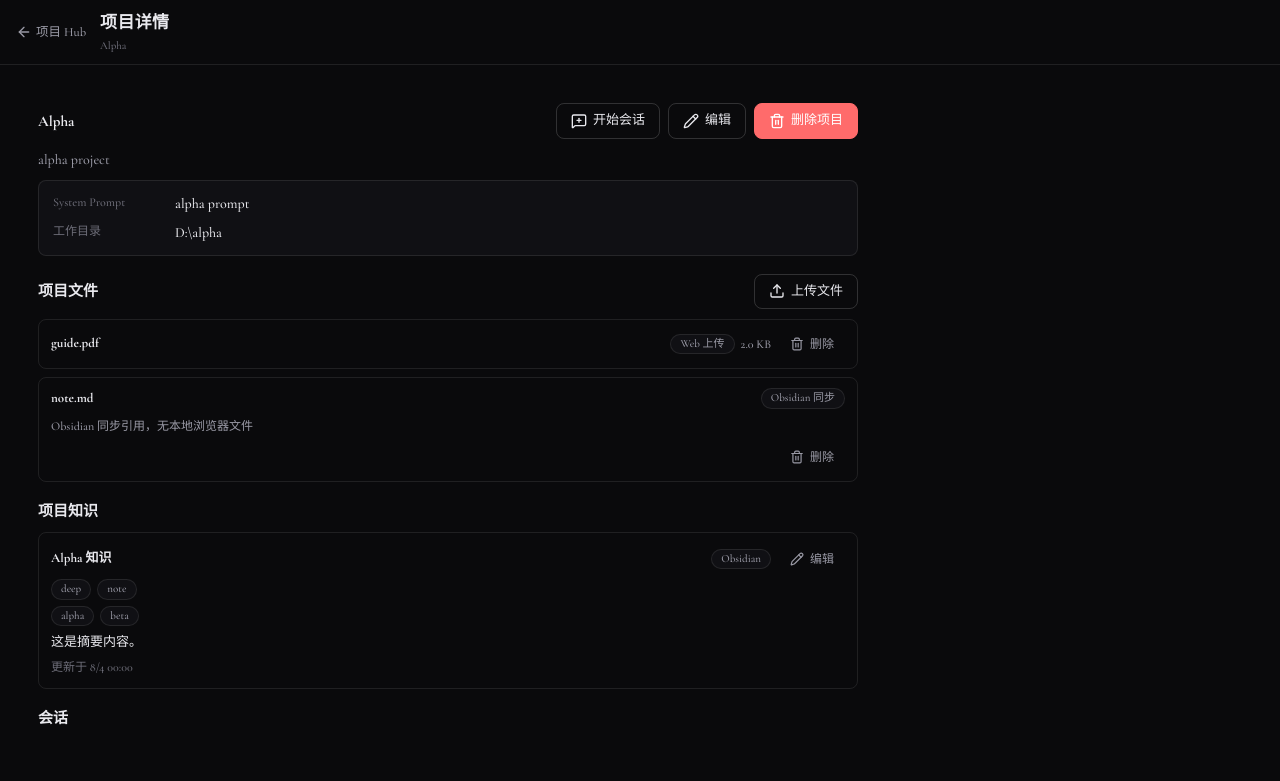
Scenario: P2B file deletion (numeric and kf_ paths, Plan §6.3/§8.5) › numeric delete confirms name+source, hits files/<id>/ and refreshes both sections
This screenshot has width=1280, height=781.
Check: the text "guide.pdf" is shown, box [51, 335, 99, 351]
Click the button "删除" in the row of "guide.pdf": (812, 344) [779, 330, 845, 358]
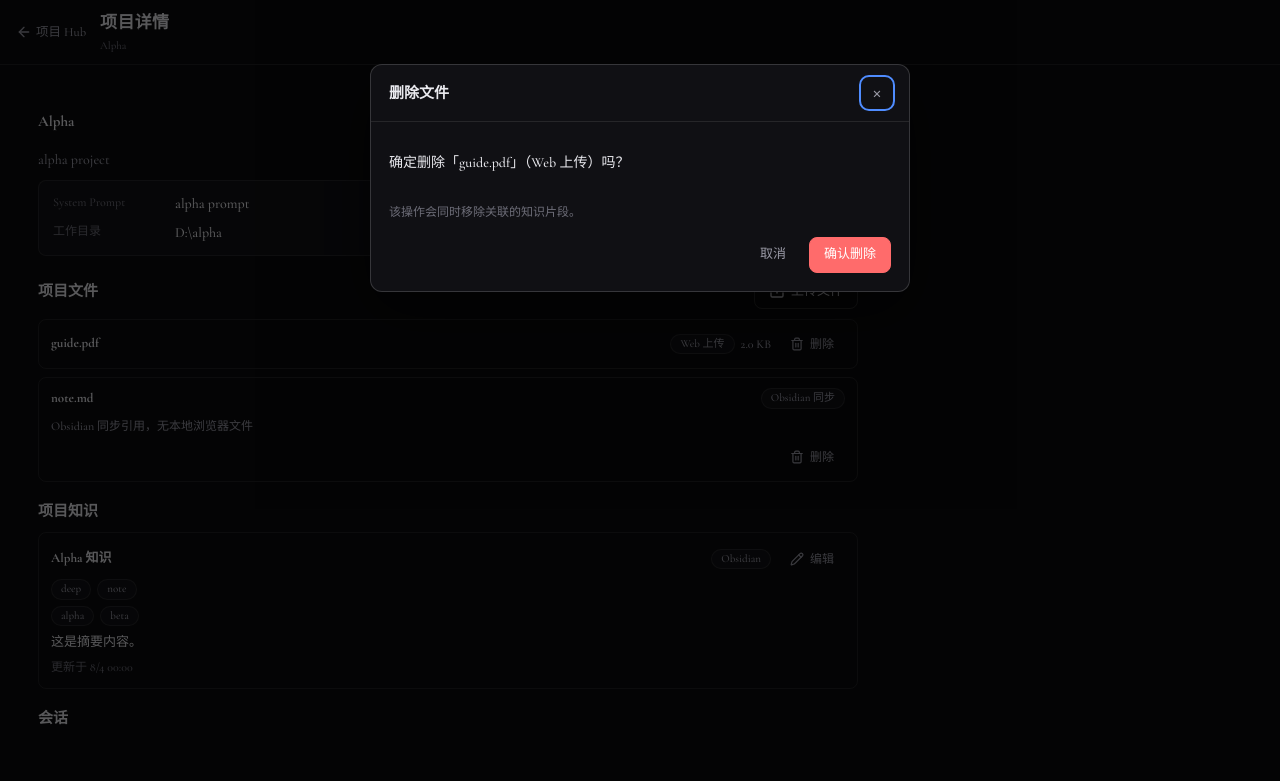
Check: the text "确定删除「guide.pdf」（Web 上传）吗？" is shown, box [389, 154, 630, 171]
Click the button "确认删除": (850, 255) [809, 237, 891, 272]
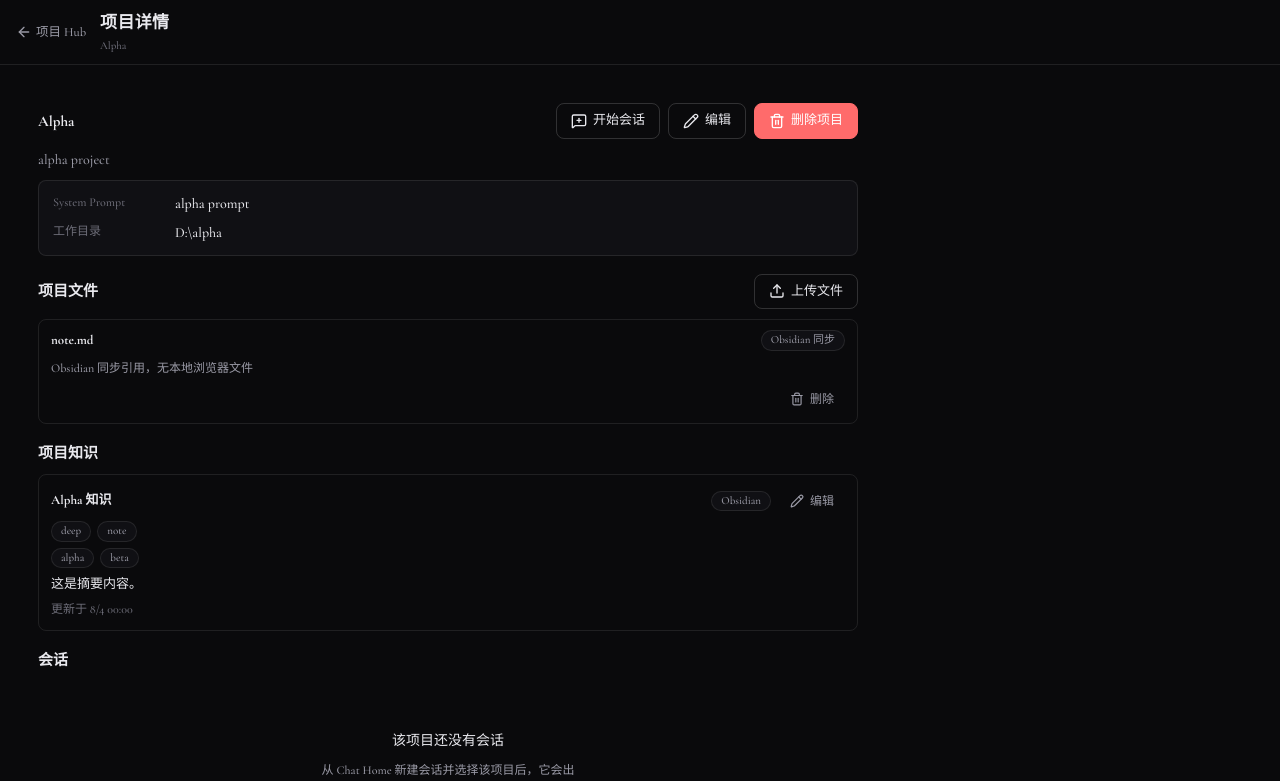
Check: the text "note.md" is shown, box [51, 332, 93, 348]
Check: the text "guide.pdf" is gone
